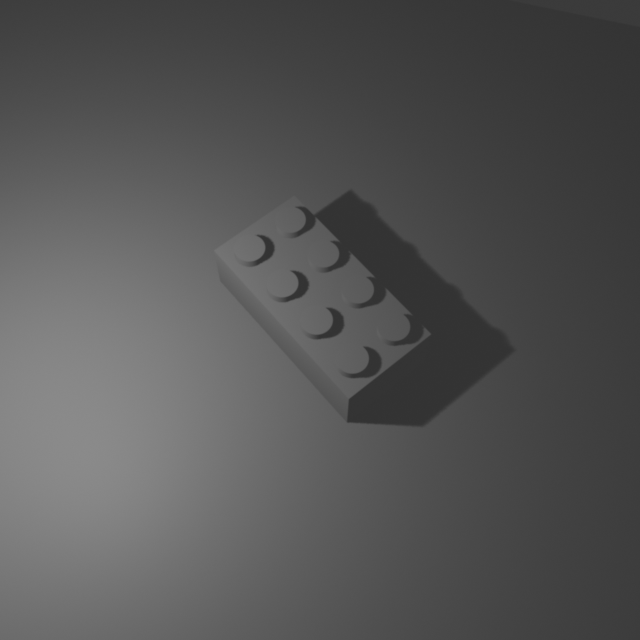lego_2x4: (213, 190, 433, 423)
